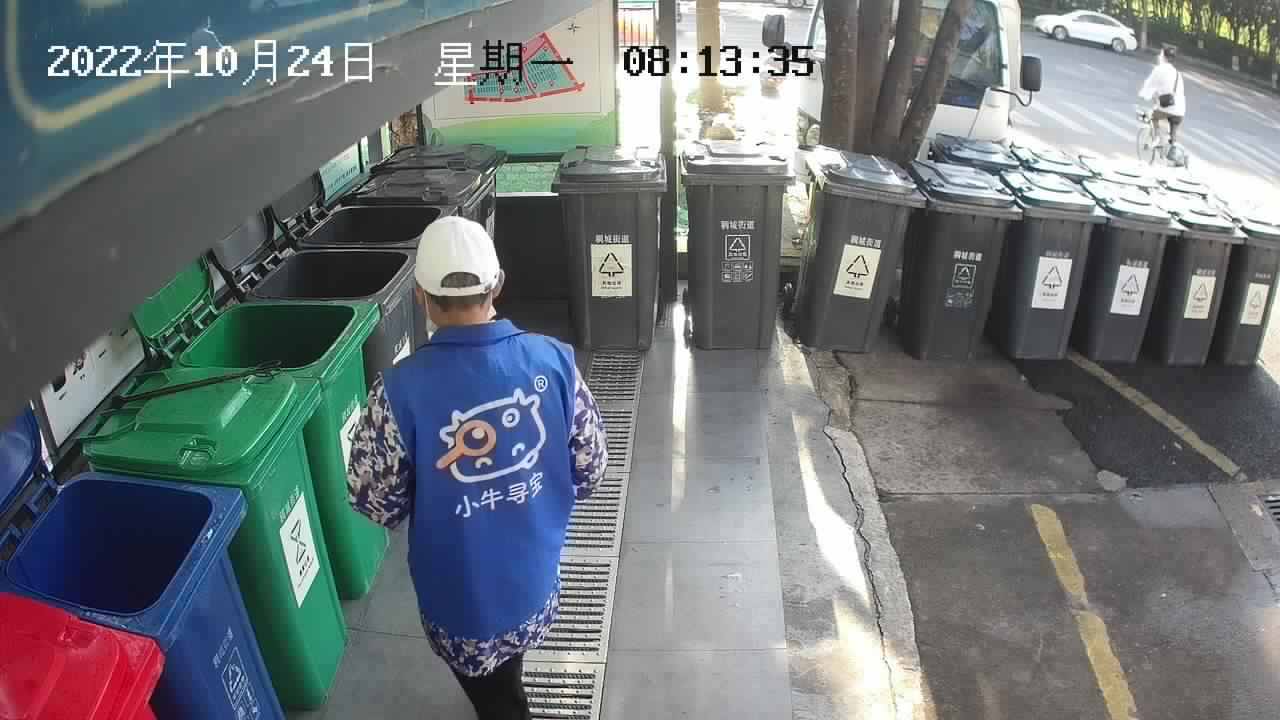worker: (336, 210, 616, 720)
